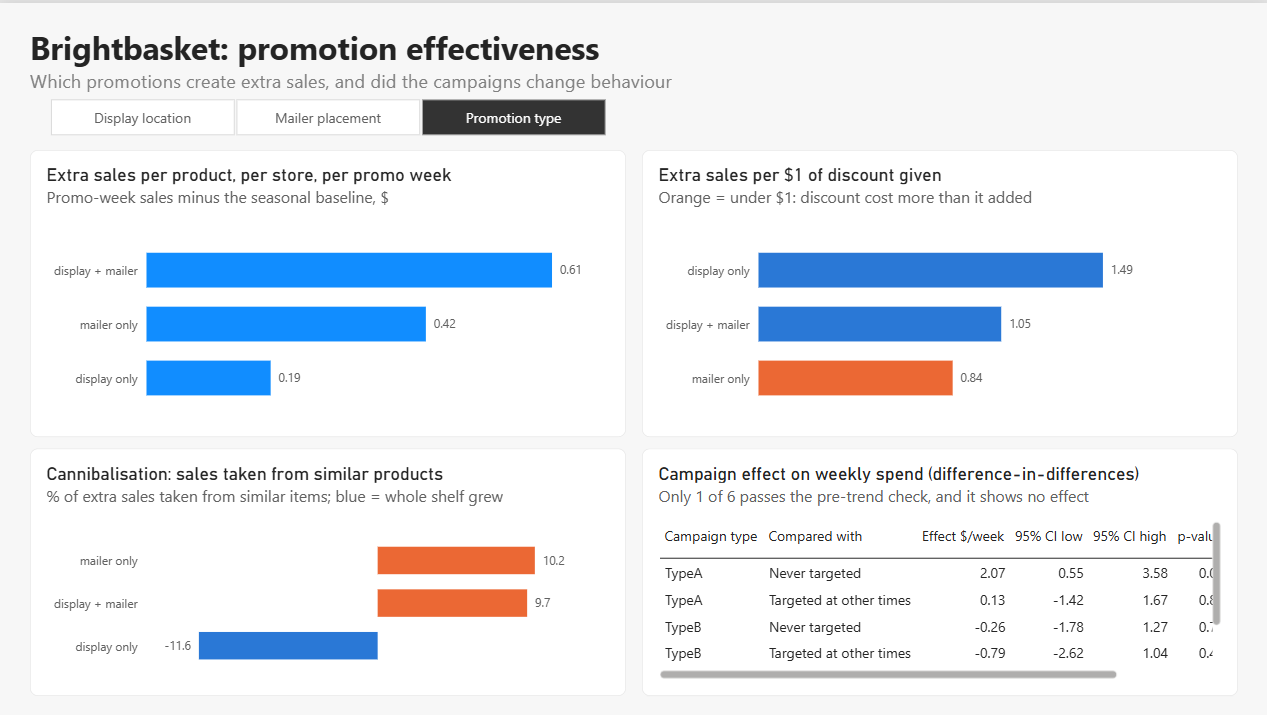

The dashboard page shown, as its layout file describes it:
{"tool":"powerbi","page":{"name":"Promotion effectiveness","canvas":[1280,720],"ordinal":2},"visuals":[{"type":"textbox","box":[31,23,900,72],"z":0},{"type":"slicer","fields":{"Values":["promo_uplift.level"]},"box":[31,96,600,40],"z":1},{"type":"clusteredBarChart","title":"Extra sales per product, per store, per promo week","fields":{"Category":["promo_uplift.placement"],"Y":["Sum(promo_uplift.avg_extra_per_week)"]},"box":[31,148,602,290],"z":2},{"type":"clusteredBarChart","title":"Extra sales per $1 of discount given","fields":{"Category":["promo_uplift.placement"],"Y":["Sum(promo_uplift.extra_per_discount_dollar)"]},"box":[649,148,602,290],"z":3},{"type":"clusteredBarChart","title":"Cannibalisation: sales taken from similar products","fields":{"Category":["promo_cannibalisation.promo_type"],"Y":["Sum(promo_cannibalisation.cannibalised_pct)"]},"box":[31,450,602,250],"z":4},{"type":"tableEx","title":"Campaign effect on weekly spend (difference-in-differences)","fields":{"Values":["campaign_results.campaign_type","campaign_results.comparison","Sum(campaign_results.effect_per_week)","Sum(campaign_results.ci95_low)","Sum(campaign_results.ci95_high)","Sum(campaign_results.p_value)","campaign_results.passes_pre_trend"]},"box":[649,450,602,250],"z":5}]}

Visuals, with their boxes in screenshot pixels (x1, y1, x2, y2), scaled from the page's 1280x720 canvas onto the 1267x715 screenshot:
textbox: region(31, 23, 922, 94)
slicer - promo_uplift.level: region(31, 95, 625, 135)
"Extra sales per product, per store, per promo week" clusteredBarChart: region(31, 147, 627, 435)
"Extra sales per $1 of discount given" clusteredBarChart: region(642, 147, 1238, 435)
"Cannibalisation: sales taken from similar products" clusteredBarChart: region(31, 447, 627, 695)
"Campaign effect on weekly spend (difference-in-differences)" tableEx: region(642, 447, 1238, 695)
